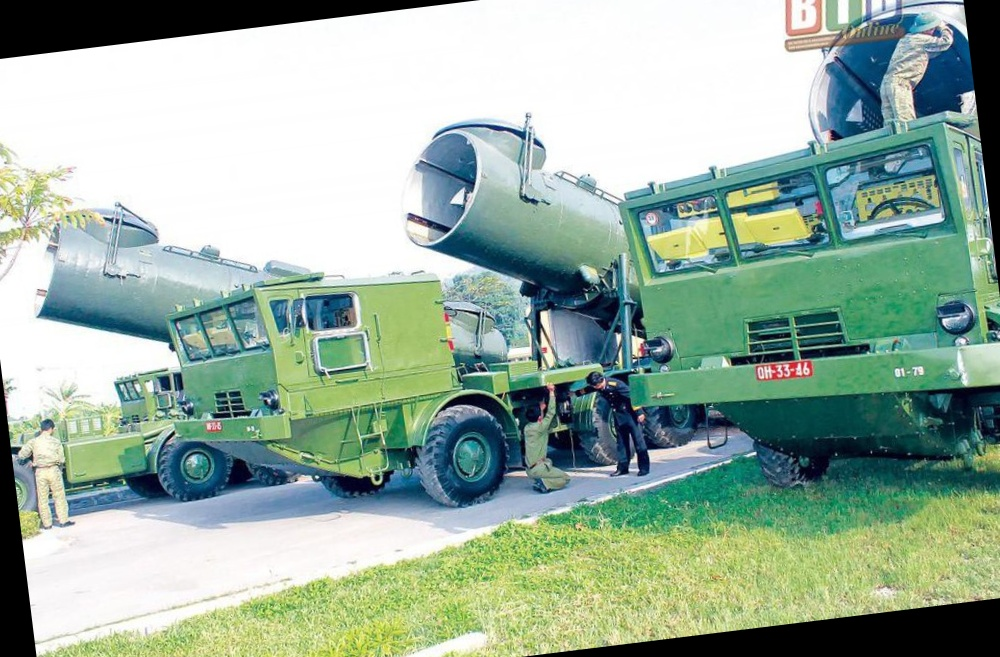plate: (756, 356, 819, 385), (199, 421, 226, 432)
